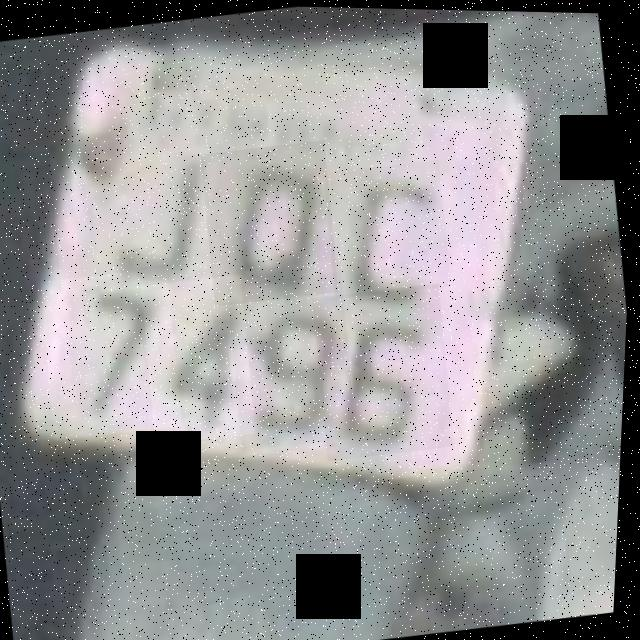3: (367, 452, 587, 640)
4: (138, 272, 265, 446)
6: (309, 279, 464, 462)
7: (37, 264, 192, 443)
9: (223, 268, 366, 452)
J: (85, 143, 228, 296)
O: (197, 136, 347, 308), (321, 156, 458, 300)
